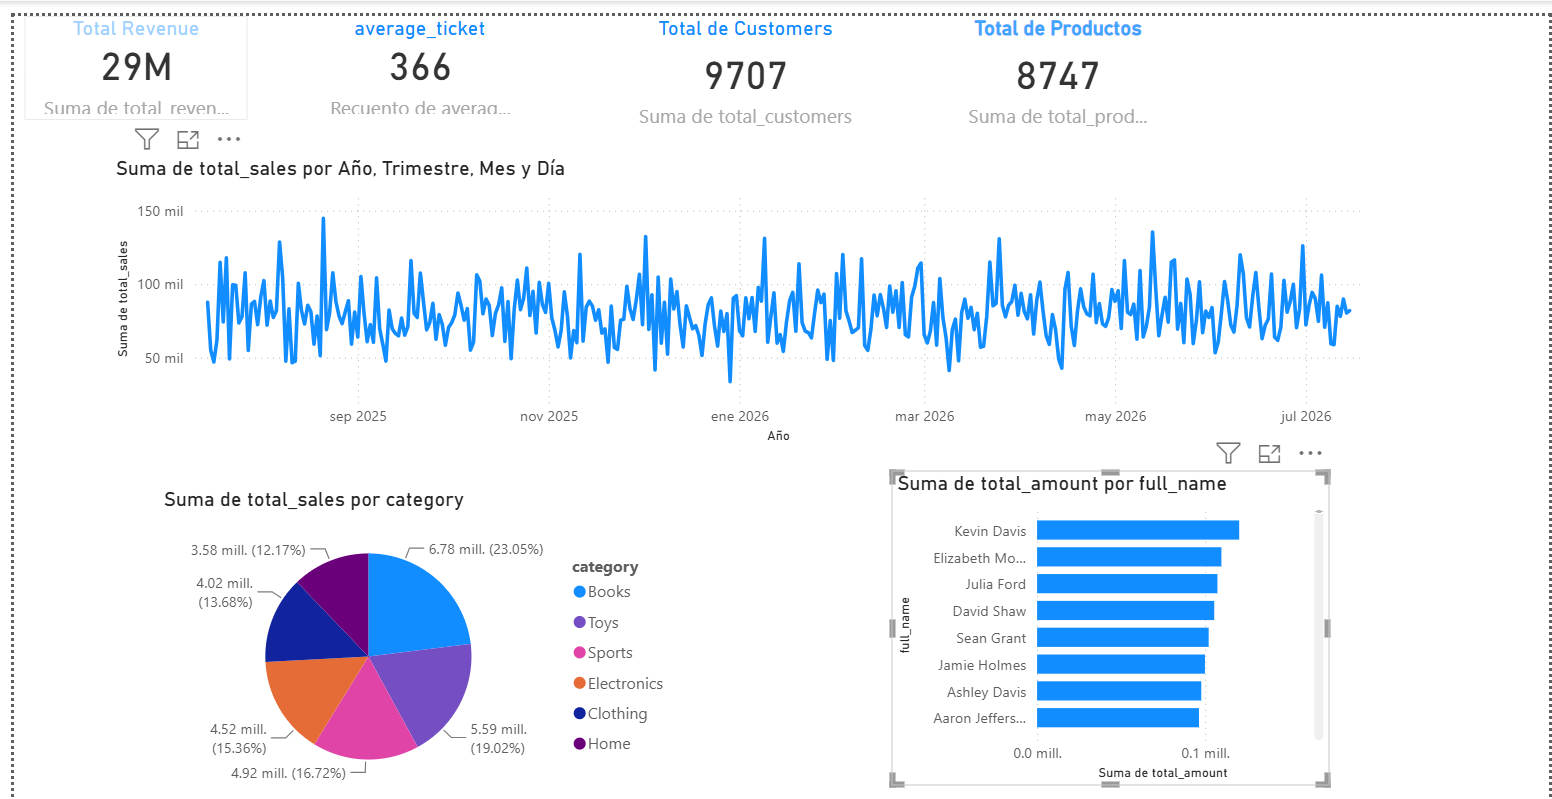

The dashboard page shown, as its layout file describes it:
{"tool":"powerbi","page":{"name":"Página 1","canvas":[1280,720],"ordinal":0},"visuals":[{"type":"advanceCardE03760C5AB684758B56AA29F9E6C257B","title":"Total Revenue","fields":{"mainMeasure":["Sum(kpi_dashboard.total_revenue)"]},"box":[9,0,186,86],"z":0},{"type":"advanceCardE03760C5AB684758B56AA29F9E6C257B","title":"average_ticket","fields":{"mainMeasure":["CountNonNull(kpi_dashboard.average_ticket)"]},"box":[246,0,184,86],"z":1000},{"type":"advanceCardE03760C5AB684758B56AA29F9E6C257B","title":"Total de Customers","fields":{"mainMeasure":["Sum(kpi_dashboard.total_customers)"]},"box":[503,0,214,100],"z":2000},{"type":"advanceCardE03760C5AB684758B56AA29F9E6C257B","title":"Total de Productos","fields":{"mainMeasure":["Sum(kpi_dashboard.total_products)"]},"box":[778,0,185,100],"z":3000},{"type":"lineChart","fields":{"Y":["Sum(sales_summary.total_sales)"],"Category":["sales_summary.sale_date.Variación.Jerarquía de fechas.Año","sales_summary.sale_date.Variación.Jerarquía de fechas.Trimestre","sales_summary.sale_date.Variación.Jerarquía de fechas.Mes","sales_summary.sale_date.Variación.Jerarquía de fechas.Día"]},"box":[80,116.2,1058.8,243.8],"z":4000},{"type":"pieChart","fields":{"Category":["sales_by_category.category"],"Y":["Sum(sales_by_category.total_sales)"]},"box":[120,392.5,435,262.5],"z":5000},{"type":"barChart","fields":{"Category":["top_customers.full_name"],"Y":["Sum(top_customers.total_amount)"]},"box":[731.2,378.8,365,262.5],"z":6000}]}

Visuals, with their boxes on the page's 1280x720 design canvas (x1, y1, x2, y2). These are canvas units, not pixel positions in the 1552x799 screenshot, which may show the page scaled, cropped or inside an application window:
"Total Revenue" advanceCardE03760C5AB684758B56AA29F9E6C257B: [9,0,195,86]
"average_ticket" advanceCardE03760C5AB684758B56AA29F9E6C257B: [246,0,430,86]
"Total de Customers" advanceCardE03760C5AB684758B56AA29F9E6C257B: [503,0,717,100]
"Total de Productos" advanceCardE03760C5AB684758B56AA29F9E6C257B: [778,0,963,100]
lineChart - Sum(sales_summary.total_sales) x sales_summary.sale_date.Variación.Jerarquía de fechas.Año: [80,116,1139,360]
pieChart - sales_by_category.category x Sum(sales_by_category.total_sales): [120,392,555,655]
barChart - top_customers.full_name x Sum(top_customers.total_amount): [731,379,1096,641]
